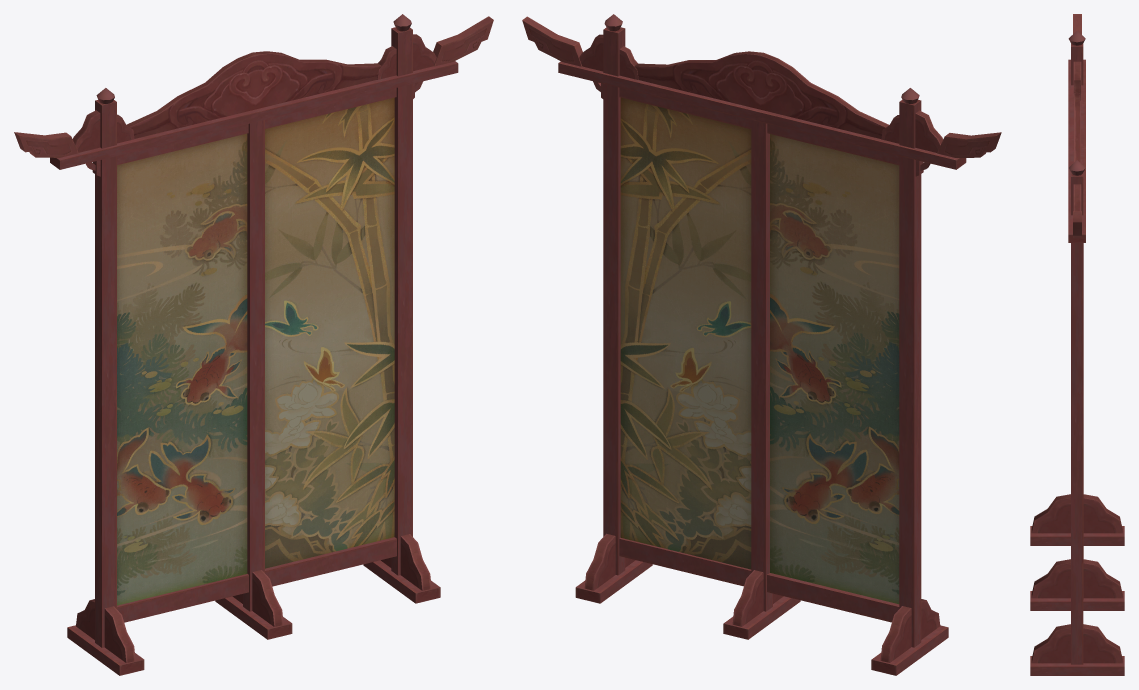
File: Homeworld_Exterior_Ly_Decoration_Prop_HdjPingfeng_01_Vo.fbx
3 views of the same model, side by side, from view 1: azimuth 30°, elevation 25°; view 2: azimuth 150°, elevation 25°; view 3: azimuth 270°, elevation 25° (orthographic). The views are drawn at different scales.
Parts seen in each view (by area): view 1: Area_Ly_Prop_LYG_Hdj_Screen_13_Vo; view 2: Area_Ly_Prop_LYG_Hdj_Screen_13_Vo; view 3: Area_Ly_Prop_LYG_Hdj_Screen_13_Vo.
Boxes of the visible parts, bbox=[...] form: Area_Ly_Prop_LYG_Hdj_Screen_13_Vo: bbox=[14, 14, 493, 675]; Area_Ly_Prop_LYG_Hdj_Screen_13_Vo: bbox=[522, 14, 1001, 675]; Area_Ly_Prop_LYG_Hdj_Screen_13_Vo: bbox=[1030, 14, 1124, 675].
Size of the model in its own units: 4.66 by 5.33 by 0.8913.
